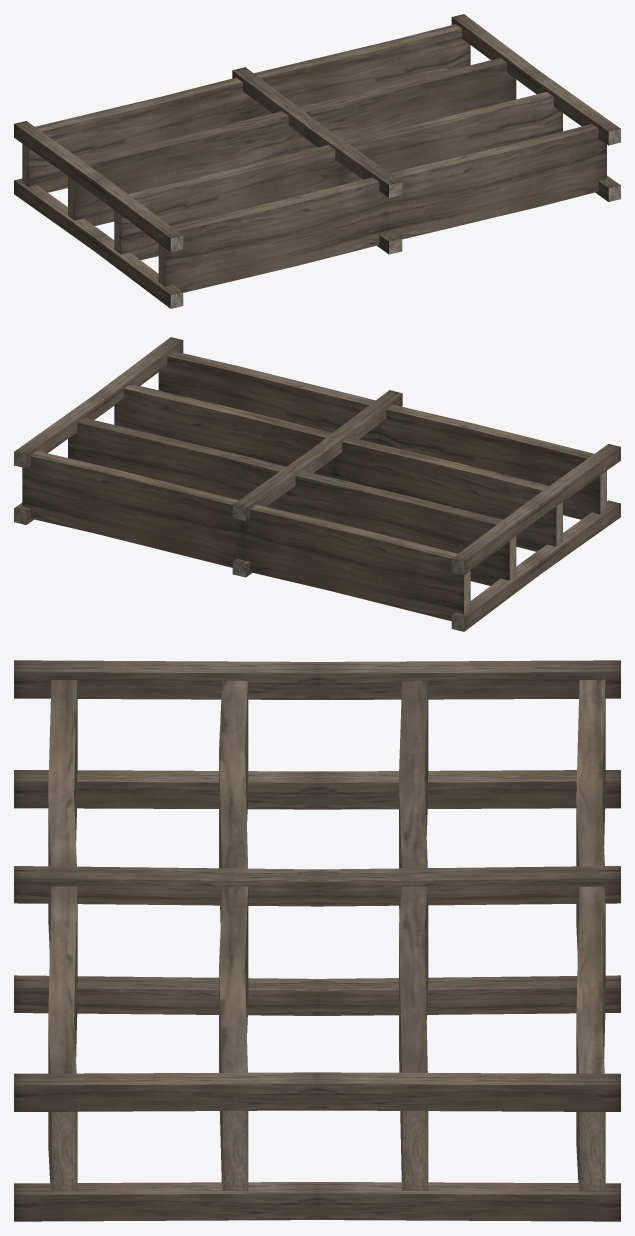
The model's file is Shelf_C.fbx.
The picture shows the model from 3 angles, top to bottom: view 1: azimuth 30°, elevation 25°; view 2: azimuth 150°, elevation 25°; view 3: azimuth 270°, elevation 25°; orthographic projection. The views are drawn at different scales.
Visible parts, largest first — view 1: Shelf_C; view 2: Shelf_C; view 3: Shelf_C.
Part boxes in pixels (box(x1,y1,x2,y2)): Shelf_C: box(14, 14, 620, 308); Shelf_C: box(14, 337, 620, 631); Shelf_C: box(14, 660, 620, 1221).
Bounding box in the file's own units: 6.65 × 1 × 4.01.
